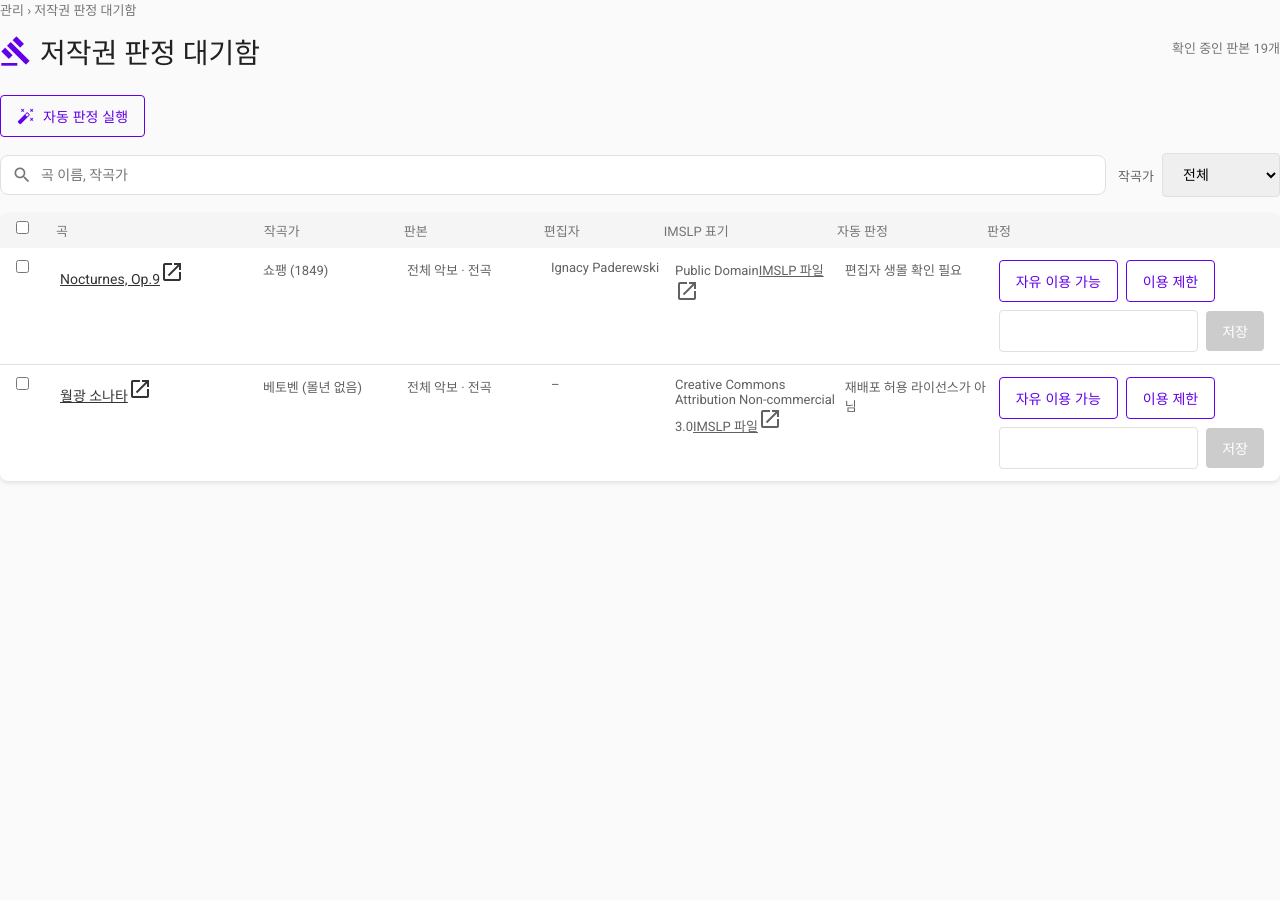
Scenario: CopyrightPendingPage — 행별 자동 판정 미적용 사유 (02 §5-8 · §7) › 같은 화면 미리보기 모달과 같은 문구를 쓴다 (문구가 두 벌이 되지 않게)
Expected: the text "편집자 생몰 확인 필요" is shown once, [845,263,962,278]
Click the button "자동 판정 실행": [73, 116] box [0,95,145,137]
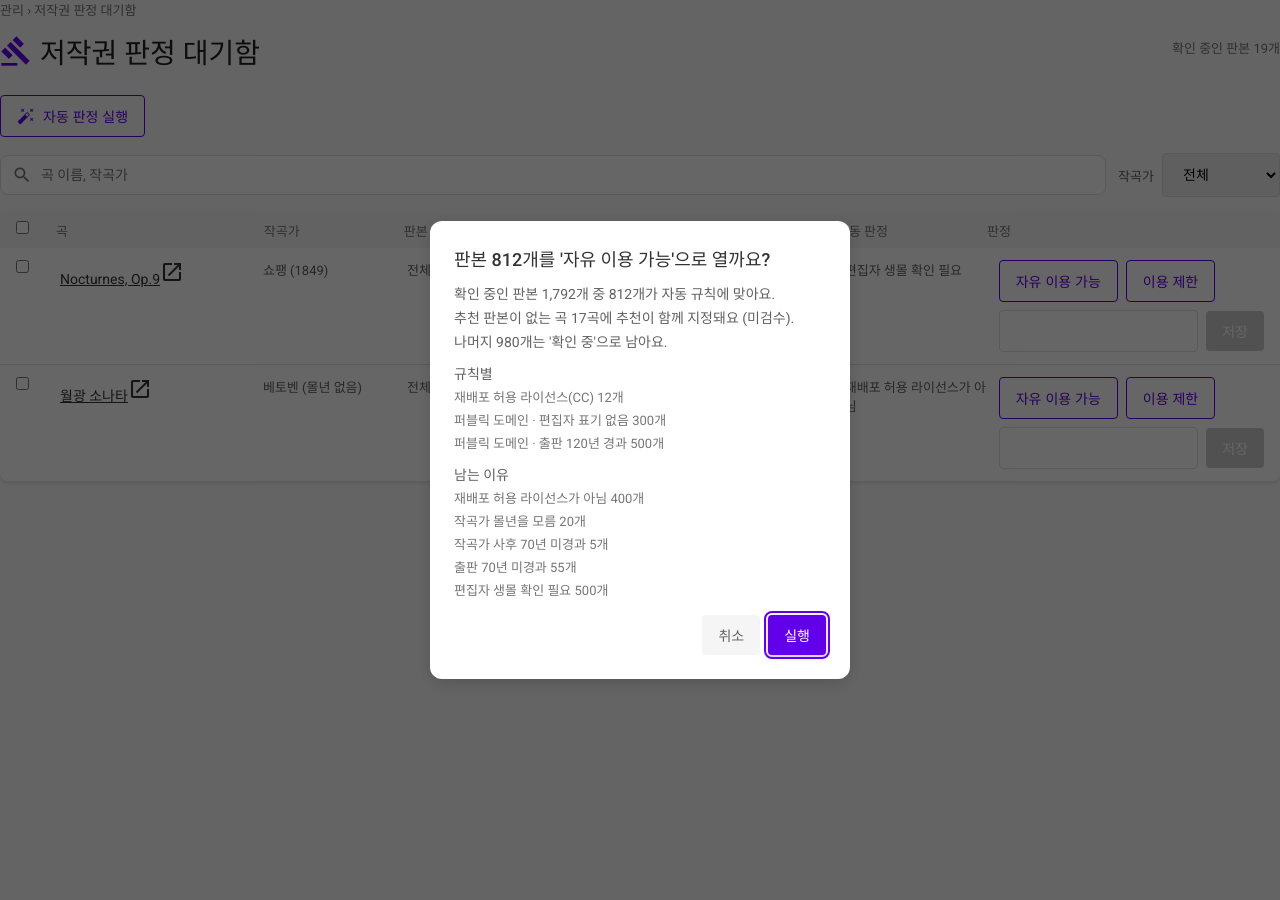
Expected: the dialog is shown, [430,221,850,679]
